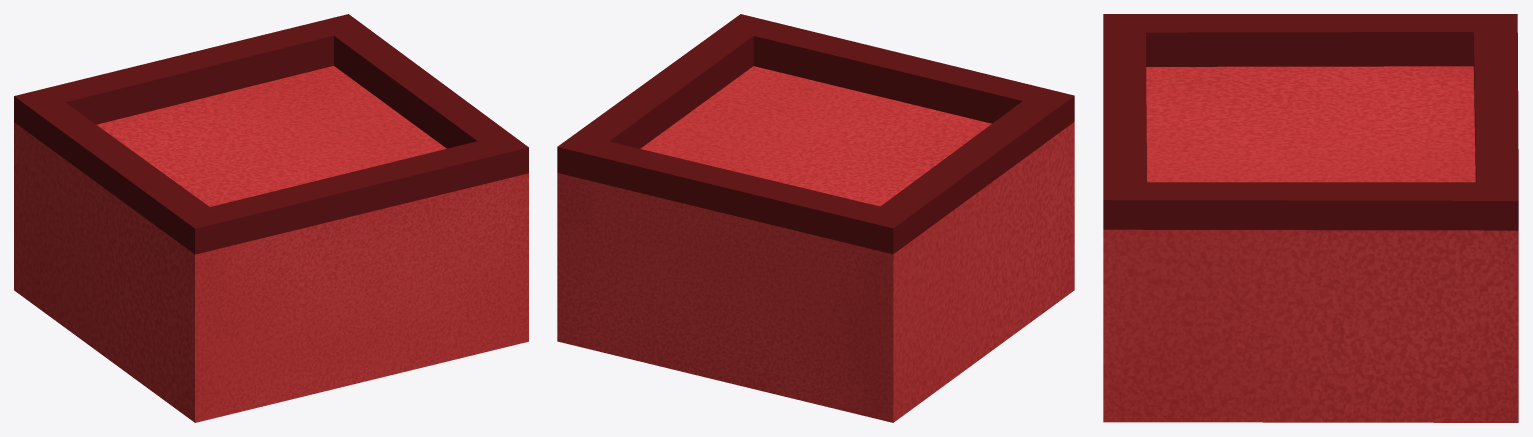
File: Ware house.fbx
The picture shows the model from 3 angles, left to right: view 1: azimuth 30°, elevation 25°; view 2: azimuth 150°, elevation 25°; view 3: azimuth 270°, elevation 25°; orthographic projection. The views are drawn at different scales.
Visible parts, largest first — view 1: Cube.049; view 2: Cube.049; view 3: Cube.049.
Boxes of the visible parts, box(x1,y1,x2,y2) form: Cube.049: box(14, 14, 528, 422); Cube.049: box(557, 14, 1074, 422); Cube.049: box(1103, 14, 1518, 422).
Size of the model in its own units: 1911 by 1058 by 1796.
2 materials, 1 textured.
